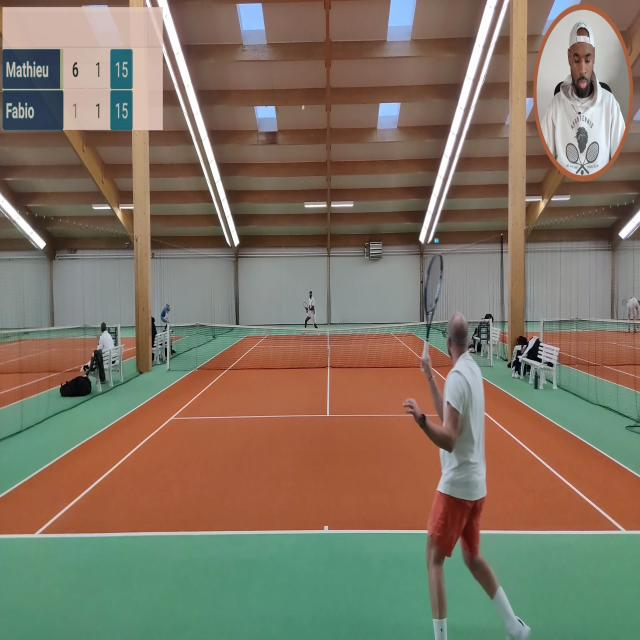ball: (301, 105, 305, 111)
